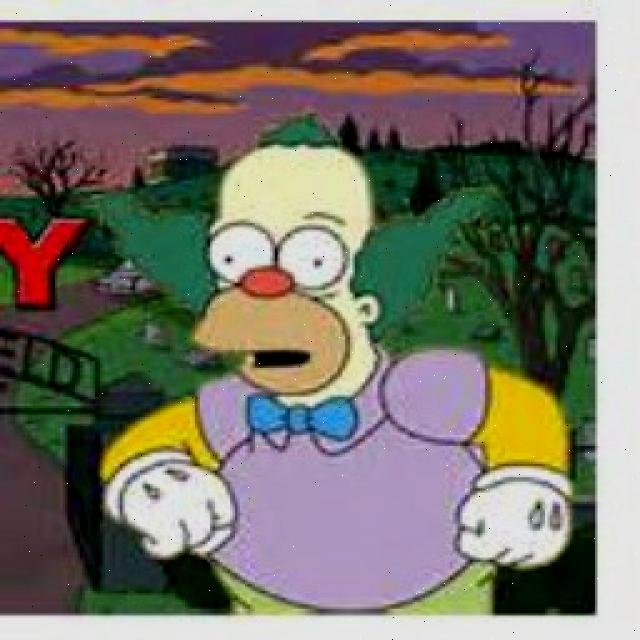Krusty the Clown: (94, 118, 502, 404)
